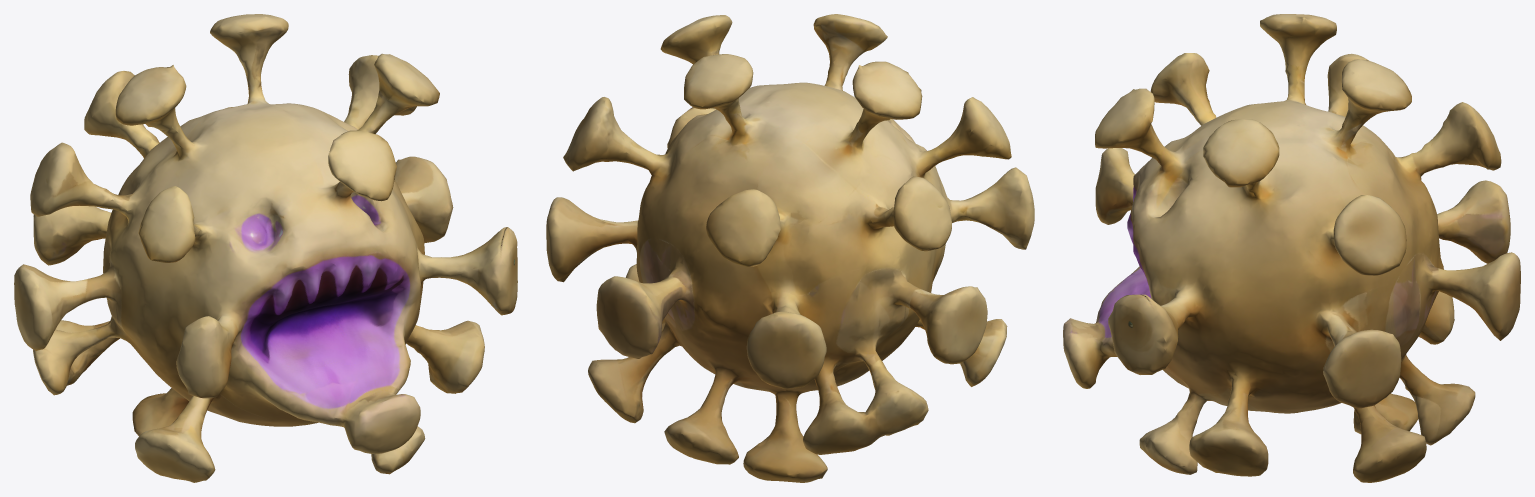
The model's file is Making_Virus_Meele_Monster_0529091626_refine.fbx.
3 views of the same model, side by side, from view 1: azimuth 30°, elevation 25°; view 2: azimuth 150°, elevation 25°; view 3: azimuth 270°, elevation 25° (orthographic). The views are drawn at different scales.
Parts seen in each view (by area): view 1: Mesh_0; view 2: Mesh_0; view 3: Mesh_0.
Boxes of the visible parts, x1=… form: Mesh_0: x1=14, y1=14, x2=517, y2=482; Mesh_0: x1=546, y1=14, x2=1034, y2=482; Mesh_0: x1=1063, y1=14, x2=1520, y2=482.
Bounding box in the file's own units: 120 × 111 × 114.
Materials: 1 (1 with a texture image).
